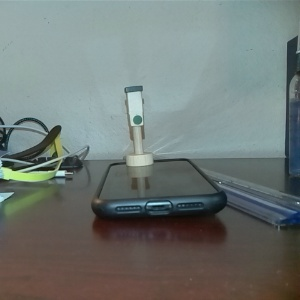traffic light green: (120, 83, 155, 167)
